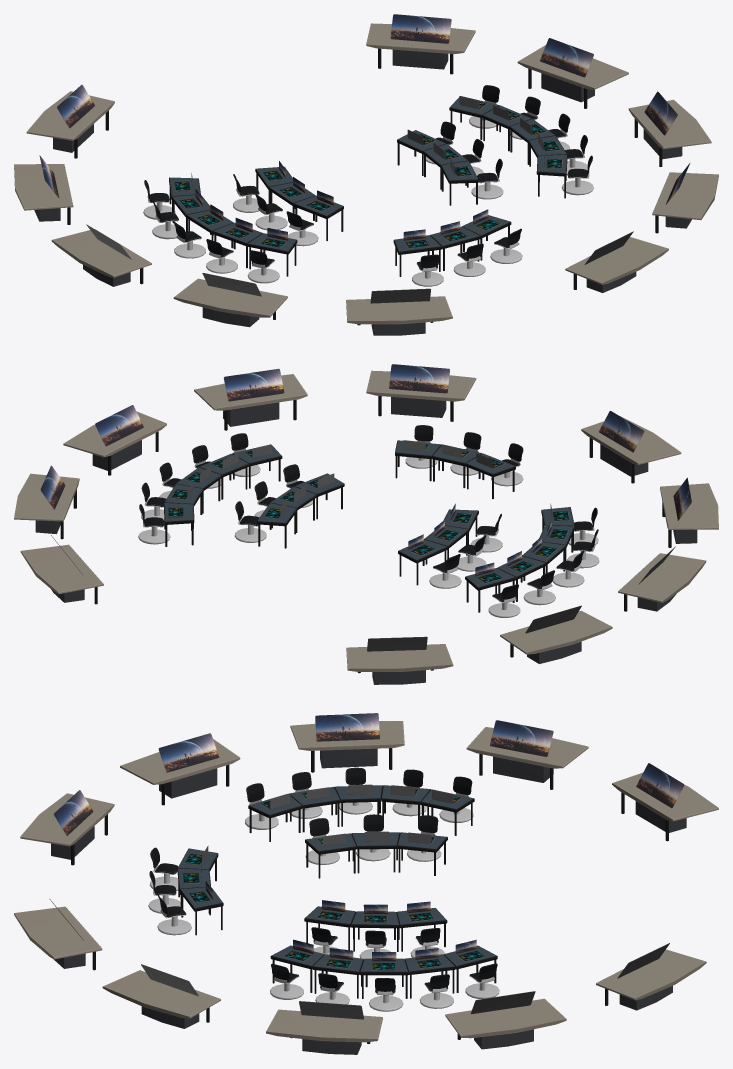
Rendered from Props01.fbx.
The picture shows the model from 3 angles, top to bottom: view 1: azimuth 30°, elevation 25°; view 2: azimuth 150°, elevation 25°; view 3: azimuth 270°, elevation 25°; orthographic projection. The views are drawn at different scales.
Visible parts, largest first — view 1: Props; view 2: Props; view 3: Props.
Part boxes in pixels (bbox=[...]): Props: bbox=[14, 14, 718, 335]; Props: bbox=[14, 364, 718, 684]; Props: bbox=[14, 713, 718, 1054].
Size of the model in its own units: 1946 by 137 by 1822.
4 materials, 4 textured.
